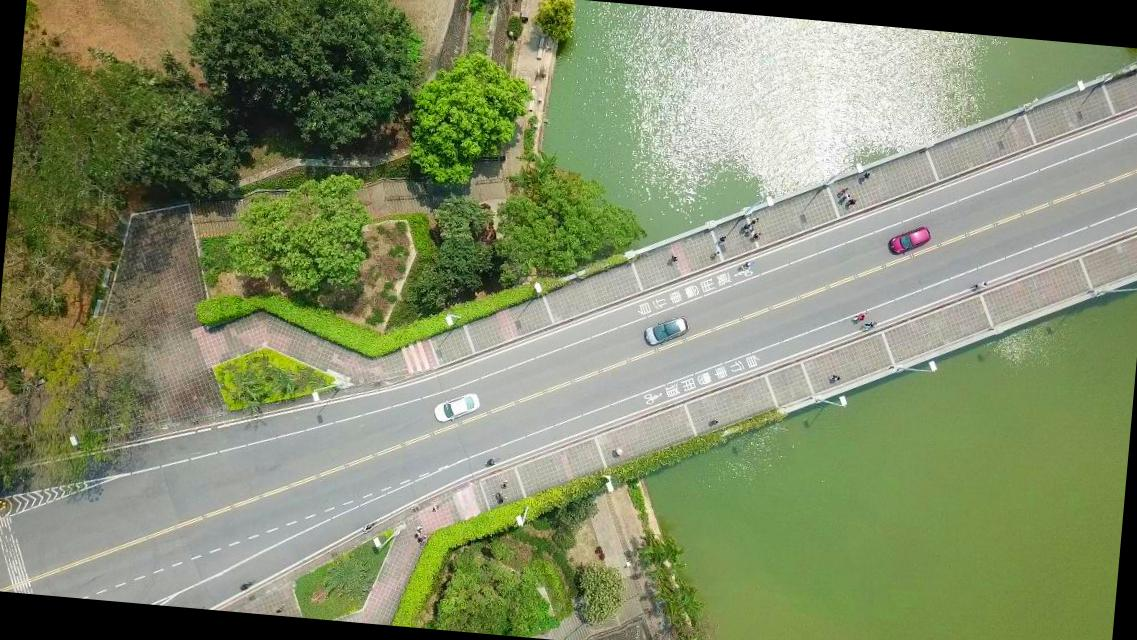vehicle: (430, 390, 480, 426), (642, 312, 690, 348), (886, 222, 930, 258)
